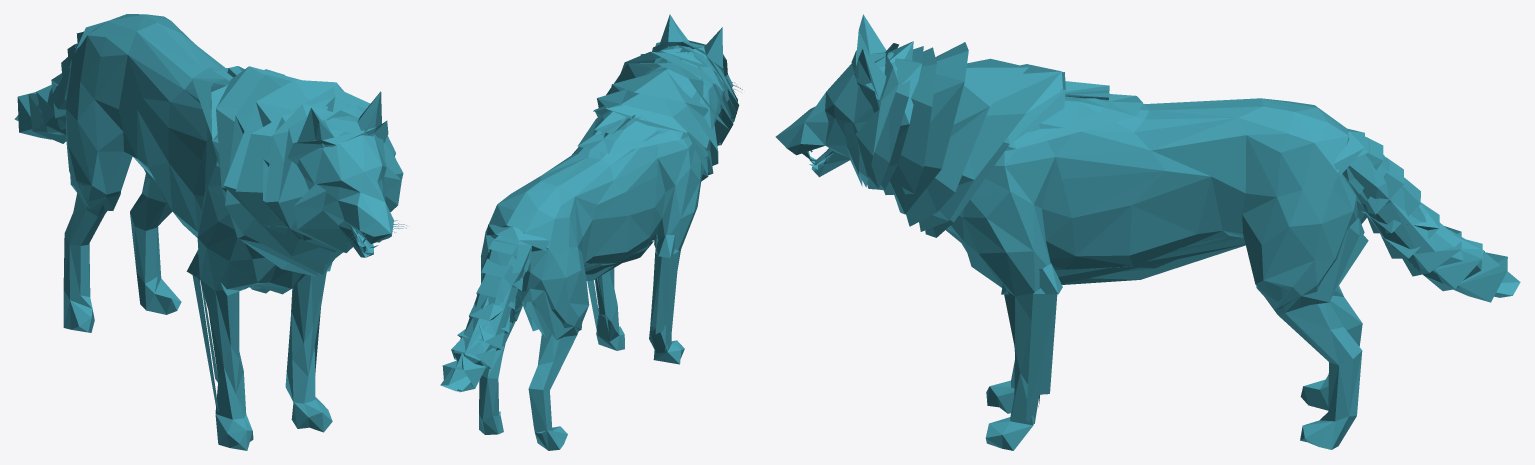
File: loup.fbx
The picture shows the model from 3 angles, left to right: view 1: azimuth 30°, elevation 25°; view 2: azimuth 150°, elevation 25°; view 3: azimuth 270°, elevation 25°; orthographic projection. The views are drawn at different scales.
Parts seen in each view (by area): view 1: grp1; view 2: grp1; view 3: grp1.
Boxes of the visible parts, bbox=[...] form: grp1: bbox=[14, 14, 403, 450]; grp1: bbox=[440, 14, 739, 450]; grp1: bbox=[775, 14, 1520, 450].
Size of the model in its own units: 18.33 by 40.75 by 69.95.
